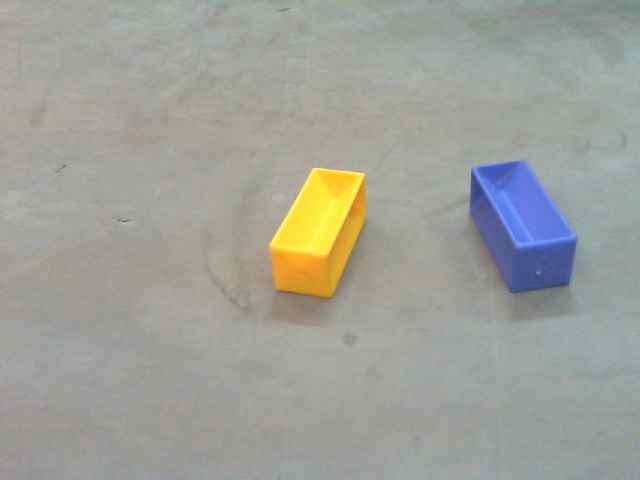BlueSample: (466, 156, 581, 299)
YellowSample: (266, 165, 370, 312)
